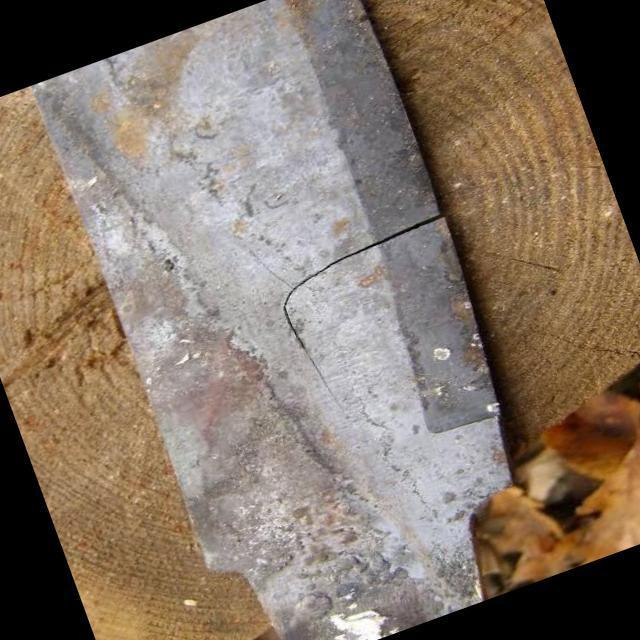defect: (277, 212, 442, 411)
